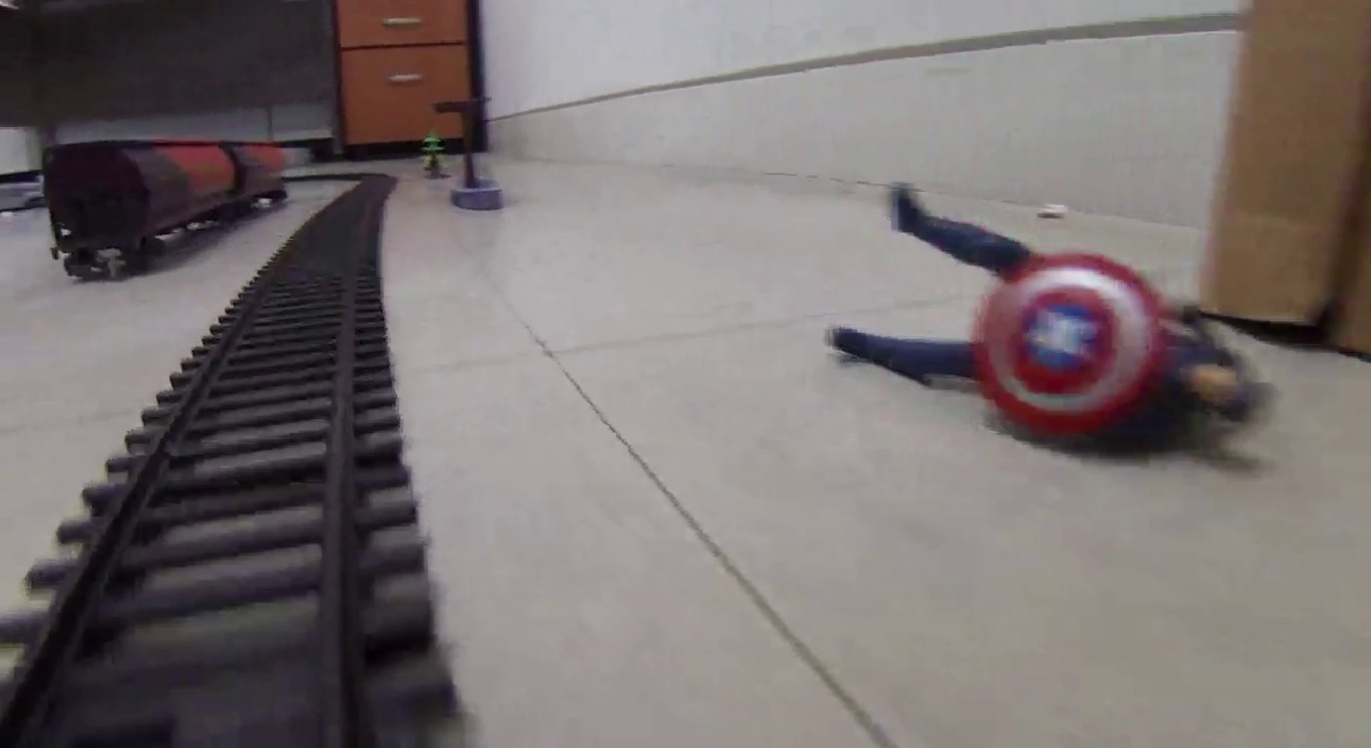people: (826, 185, 1282, 453)
